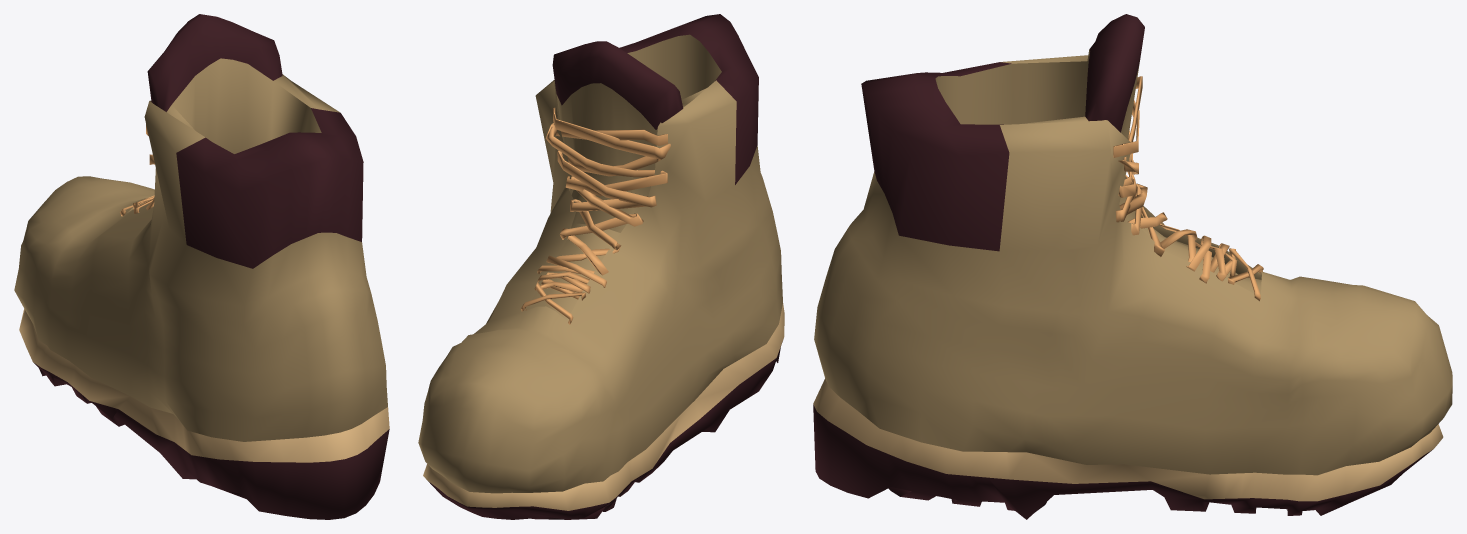
File: left_boot.fbx
3 views of the same model, side by side, from view 1: azimuth 30°, elevation 25°; view 2: azimuth 150°, elevation 25°; view 3: azimuth 270°, elevation 25° (orthographic). The views are drawn at different scales.
Visible parts, largest first — view 1: Outside; view 2: Outside, Cube.005, Cube.004; view 3: Outside, Cube.005, Cube.004.
Boxes of the visible parts, box(x1,y1,x2,y2) form: Outside: box(14, 14, 389, 519); Outside: box(418, 14, 784, 519); Cube.005: box(521, 107, 670, 324); Cube.004: box(545, 123, 668, 275); Outside: box(813, 14, 1452, 519); Cube.005: box(1113, 100, 1263, 301); Cube.004: box(1115, 76, 1197, 256).
Bounding box in the file's own units: 0.303 × 0.6386 × 0.7847.
